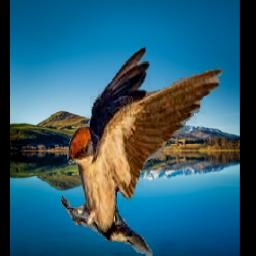Swallow: (60, 46, 226, 256)
